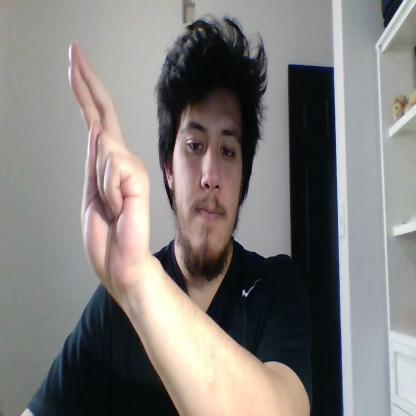R: (69, 41, 151, 290)
